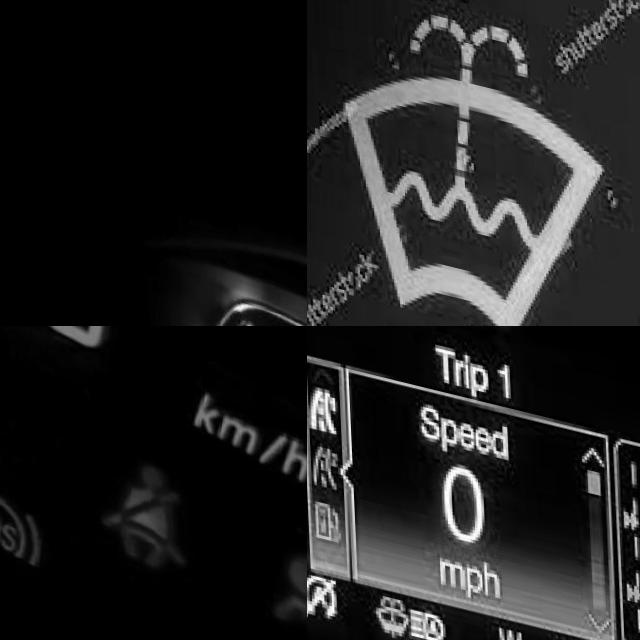Washer Fluid: (336, 0, 608, 326), (368, 583, 407, 635)
